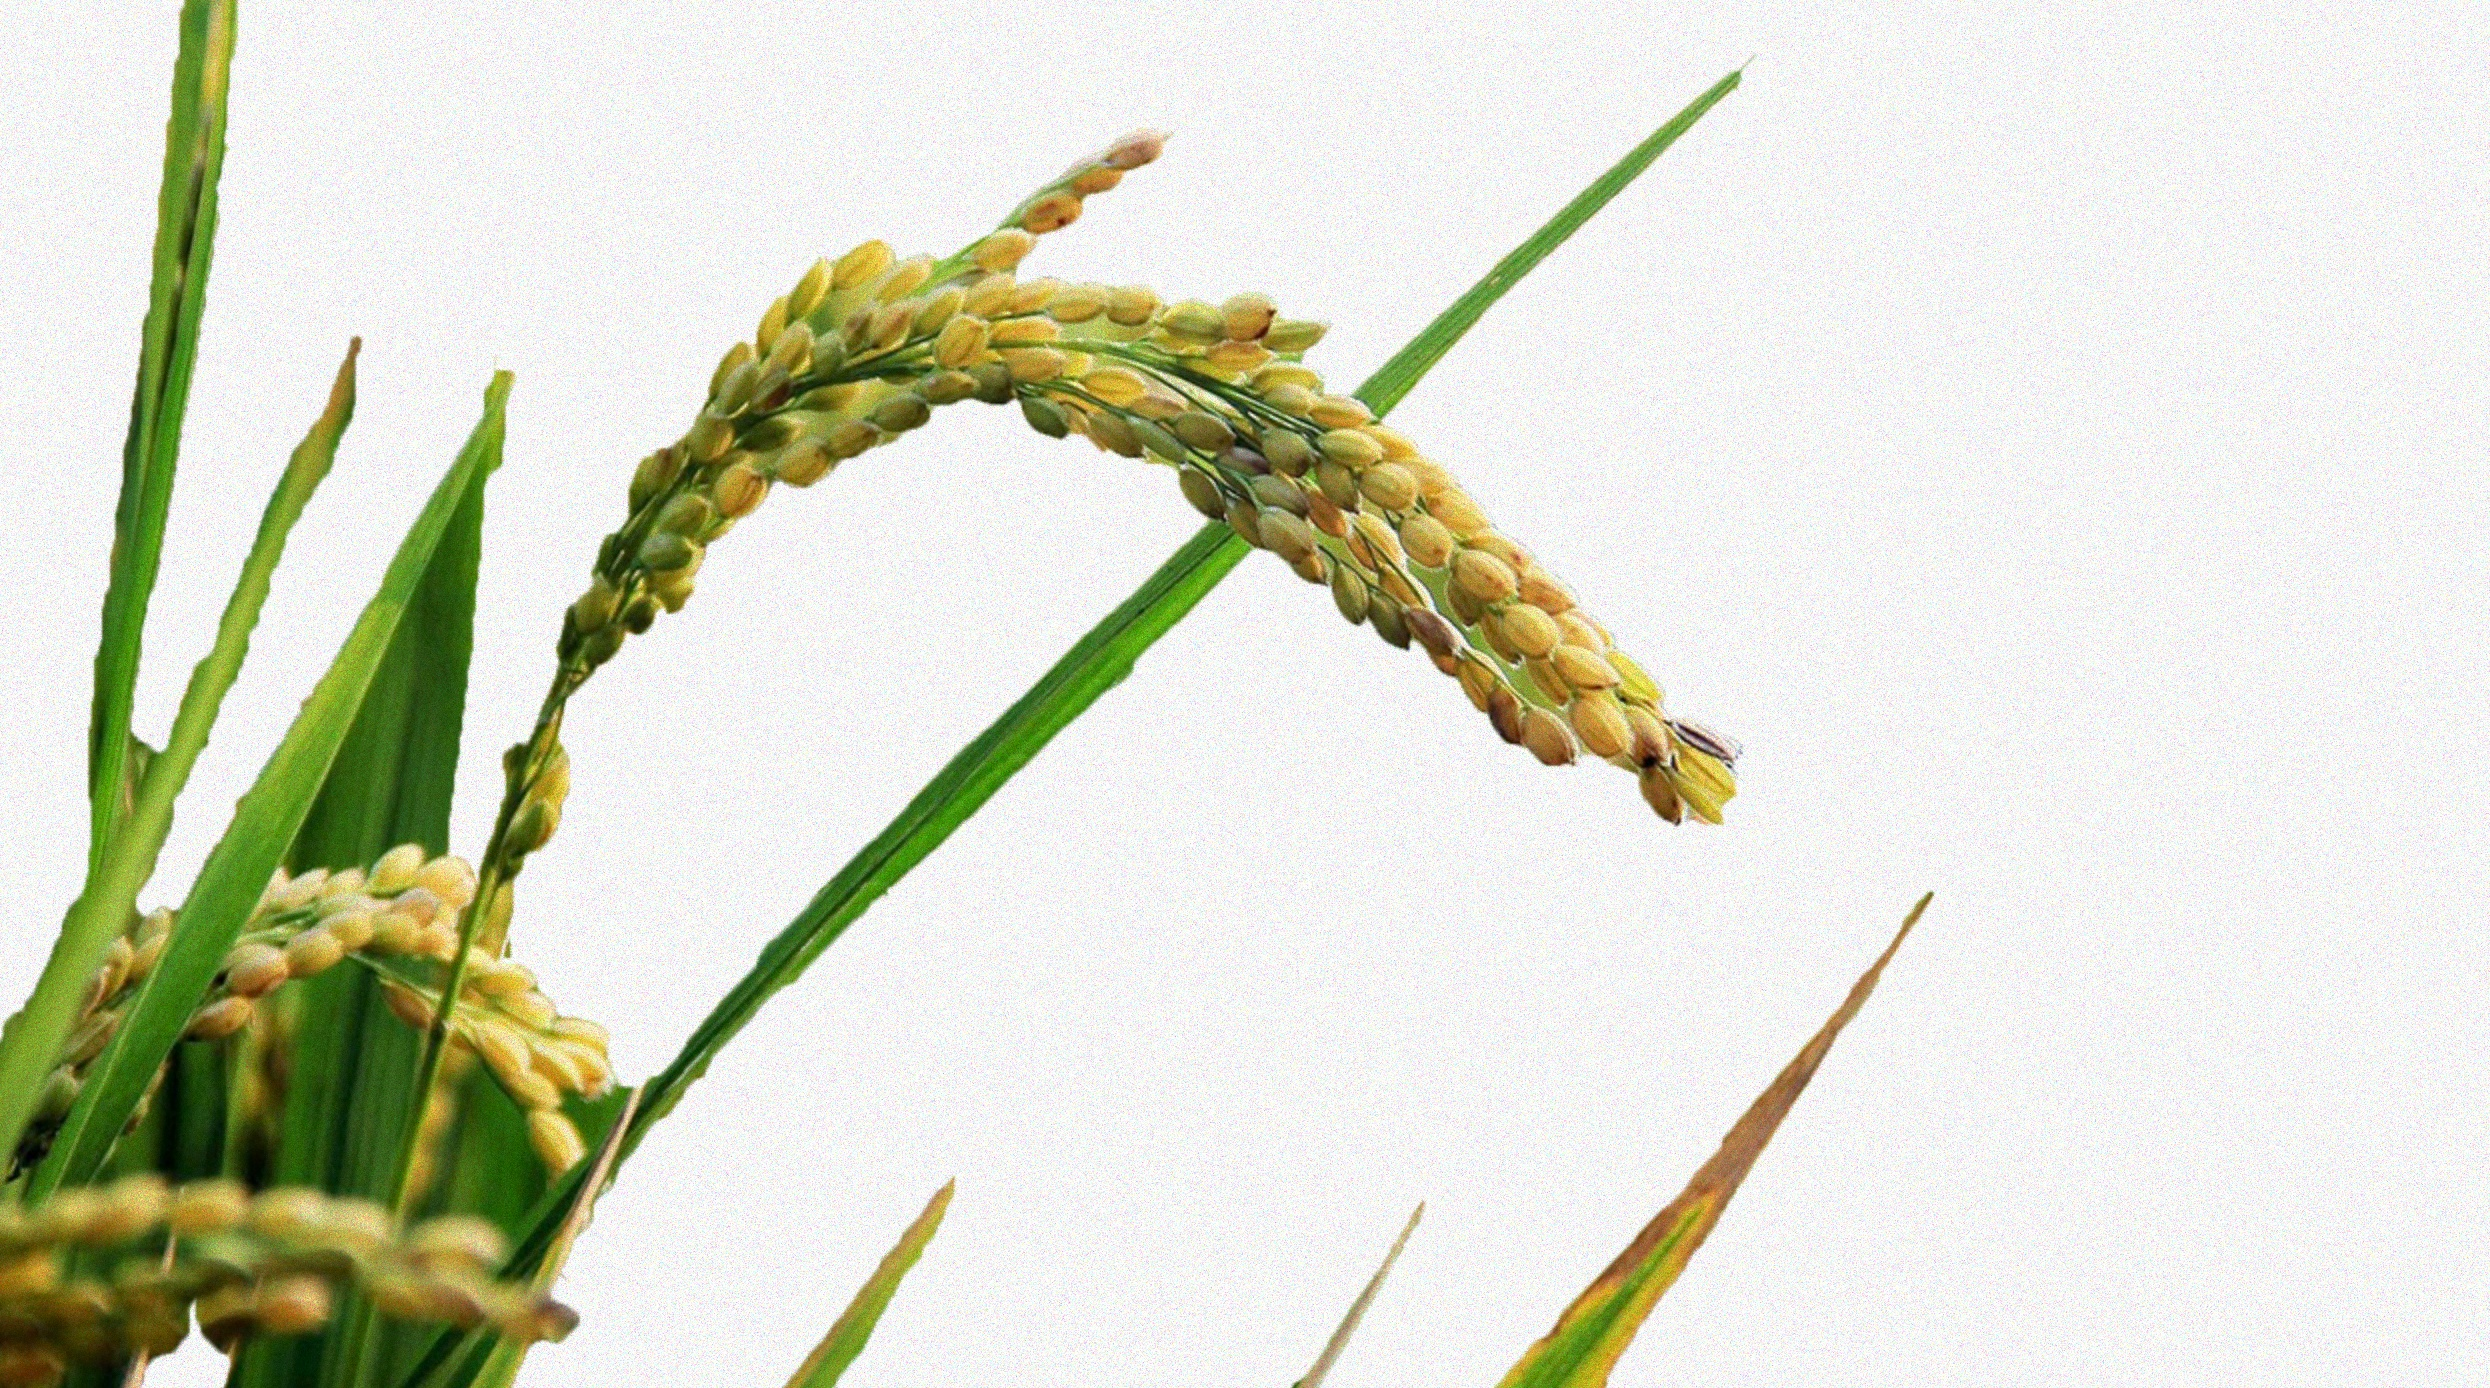rice: (463, 80, 1771, 938)
